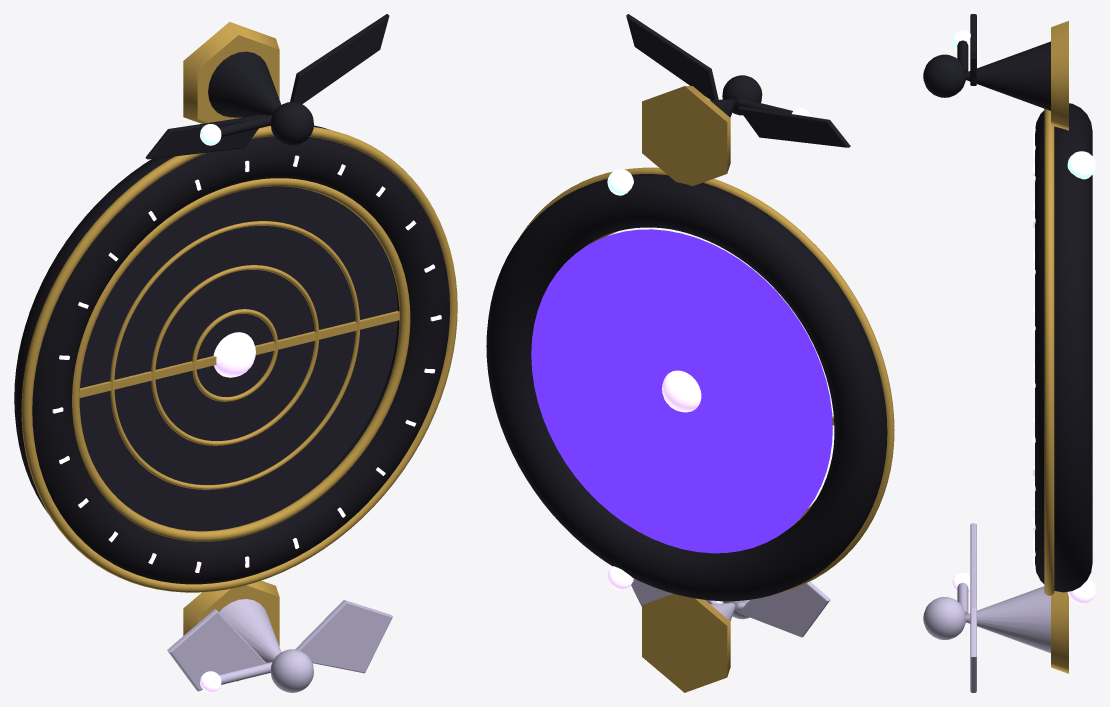
The model's file is gate.glb.
3 views of the same model, side by side, from view 1: azimuth 30°, elevation 25°; view 2: azimuth 150°, elevation 25°; view 3: azimuth 270°, elevation 25° (orthographic). The views are drawn at different scales.
Visible parts, largest first — view 1: rim, doorR_plate, doorL_plate, rim_out, rim_in, statue_L_plinth, statue_R_wing_a, statue_R_wing_b, statue_L_body, statue_L_wing_a, statue_R_plinth, statue_L_wing_b (+12 smaller); view 2: vortex, rim, statue_L_plinth, statue_R_plinth, rim_out, statue_R_wing_b, statue_L_wing_a, statue_L_wing_b, core, statue_L_head; view 3: rim, rim_out, statue_L_body, statue_R_body, statue_L_plinth, statue_L_head, statue_R_head, statue_R_plinth, engine_L_lamp, statue_R_wing_b, statue_R_wing_a, engine_R_lamp (+2 smaller).
Boxes of the visible parts, <box> form: rim: <box>14,125,449,584</box>; doorR_plate: <box>79,320,397,530</box>; doorL_plate: <box>80,186,397,388</box>; rim_out: <box>21,125,457,592</box>; rim_in: <box>72,178,410,541</box>; statue_L_plinth: <box>183,22,279,123</box>; statue_R_wing_a: <box>295,600,392,673</box>; statue_R_wing_b: <box>167,609,265,691</box>; statue_L_body: <box>208,51,281,117</box>; statue_L_wing_a: <box>290,14,389,104</box>; statue_R_plinth: <box>183,580,279,681</box>; statue_L_wing_b: <box>145,114,266,159</box>; vortex: <box>531,229,832,553</box>; rim: <box>486,174,887,601</box>; statue_L_plinth: <box>642,86,730,185</box>; statue_R_plinth: <box>642,593,730,692</box>; rim_out: <box>520,167,894,592</box>; statue_R_wing_b: <box>738,581,830,637</box>; statue_L_wing_a: <box>626,14,718,100</box>; statue_L_wing_b: <box>738,106,850,147</box>; core: <box>662,370,701,412</box>; statue_L_head: <box>722,75,762,115</box>; rim: <box>1035,103,1092,592</box>; rim_out: <box>1044,109,1054,595</box>; statue_L_body: <box>965,41,1050,110</box>; statue_R_body: <box>965,586,1050,653</box>; statue_L_plinth: <box>1051,21,1068,130</box>; statue_L_head: <box>923,54,965,97</box>; statue_R_head: <box>923,597,965,639</box>; statue_R_plinth: <box>1051,591,1068,673</box>; engine_L_lamp: <box>1067,151,1095,179</box>; statue_R_wing_b: <box>970,523,976,609</box>; statue_R_wing_a: <box>970,608,976,692</box>; engine_R_lamp: <box>1068,577,1095,604</box>.
Bounding box in the file's own units: 552 × 819 × 192.
